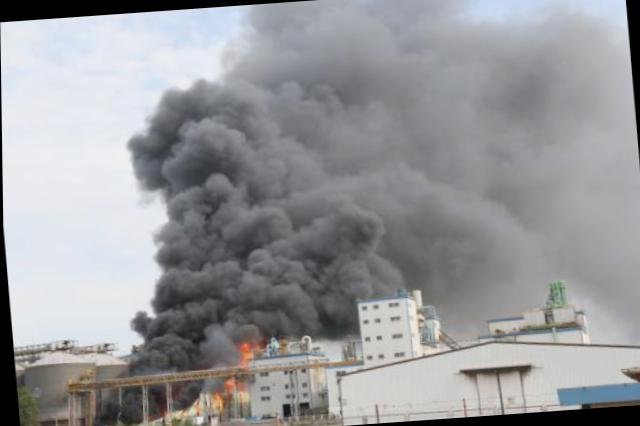fire: (242, 340, 255, 358), (216, 388, 224, 408), (225, 375, 235, 388)
